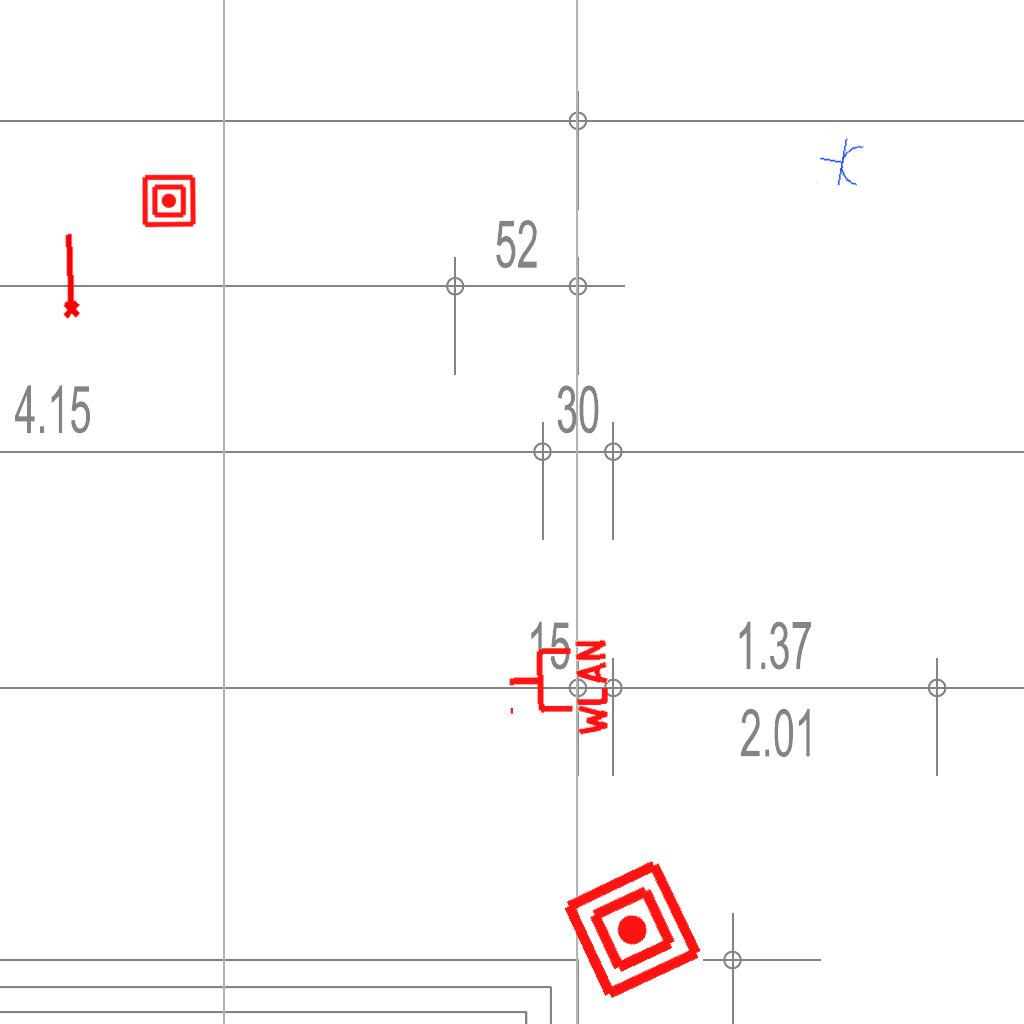ASR_Ansaugoeffnung: (55, 231, 83, 320)
NAM-Nichtautomatischer_Melder: (557, 854, 708, 1005), (141, 173, 197, 229)
Schukosteckdose_einfach: (815, 134, 867, 191)
WLAN: (503, 635, 612, 743)
